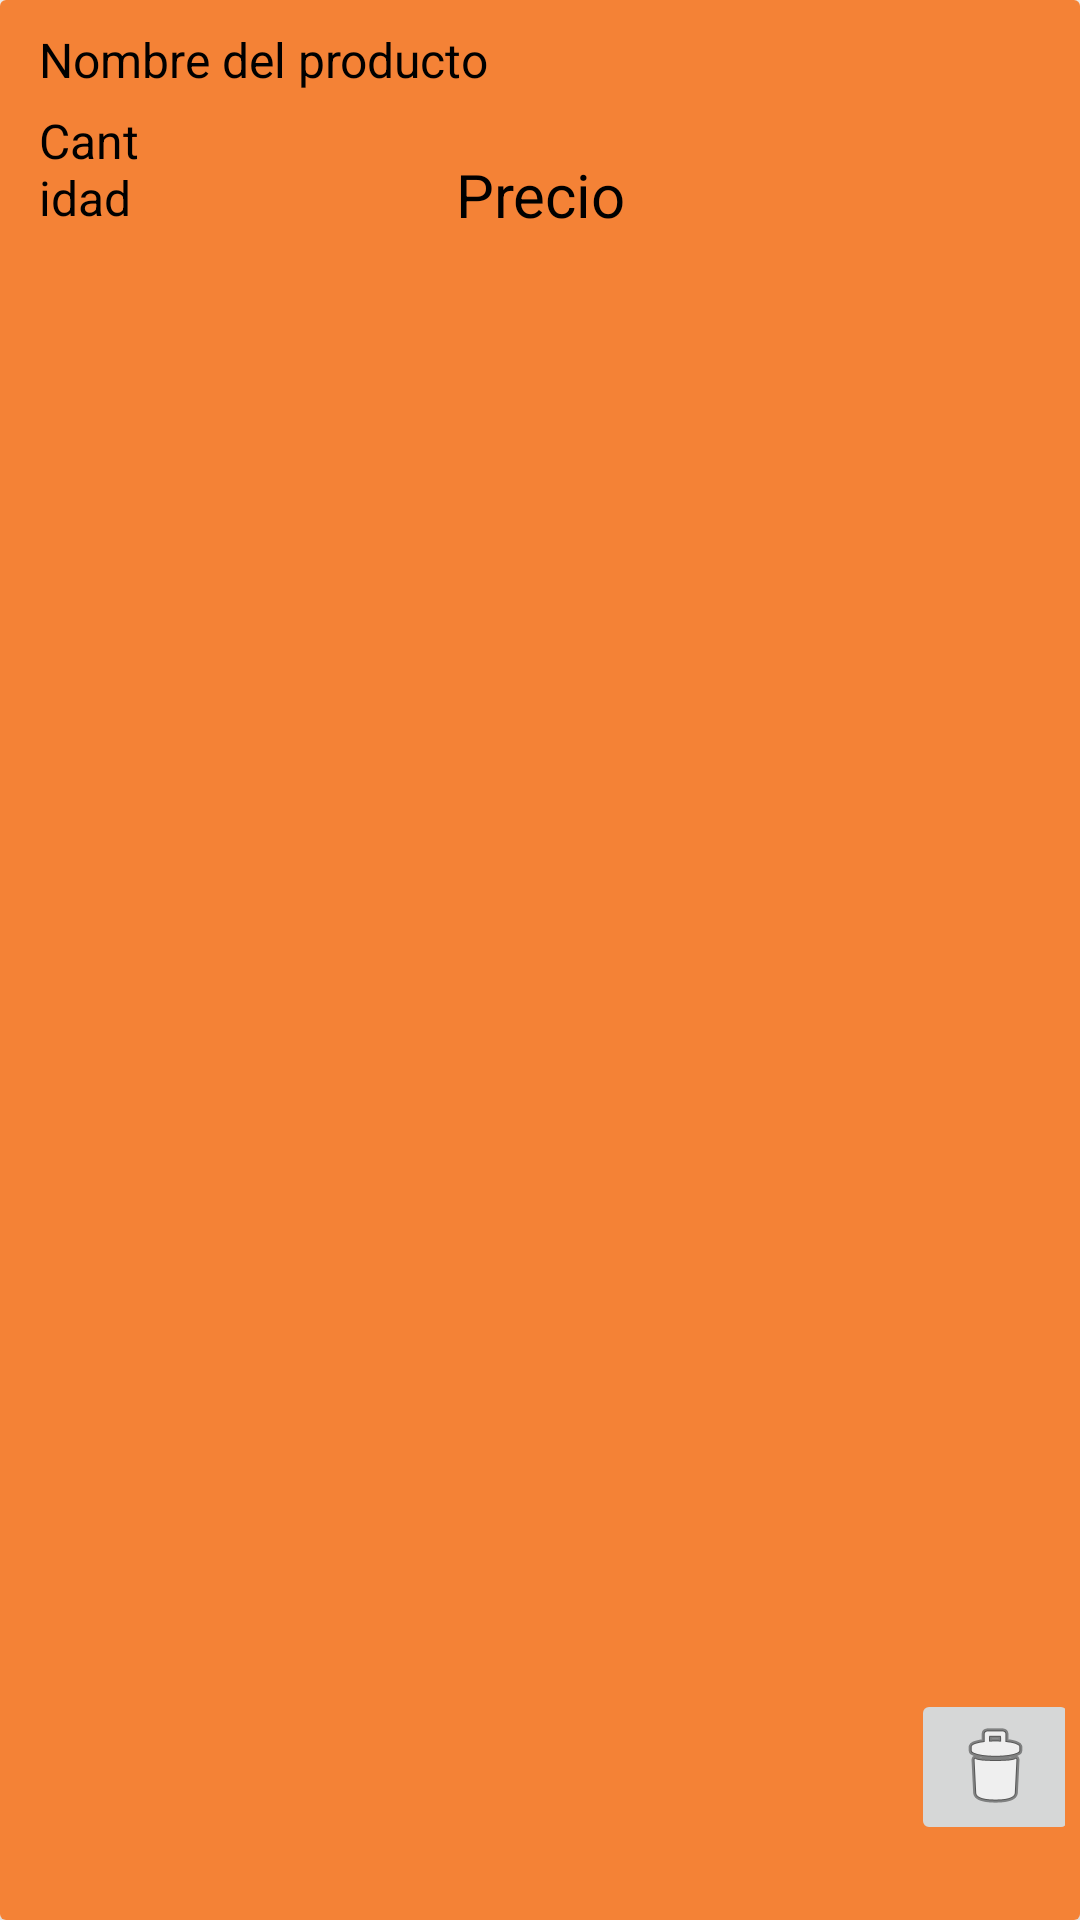

Icon bounding boxes for this 1080x1920 phone screenshot, format (x1, y1, x2, y2):
delete: (923, 1707, 1065, 1827)
